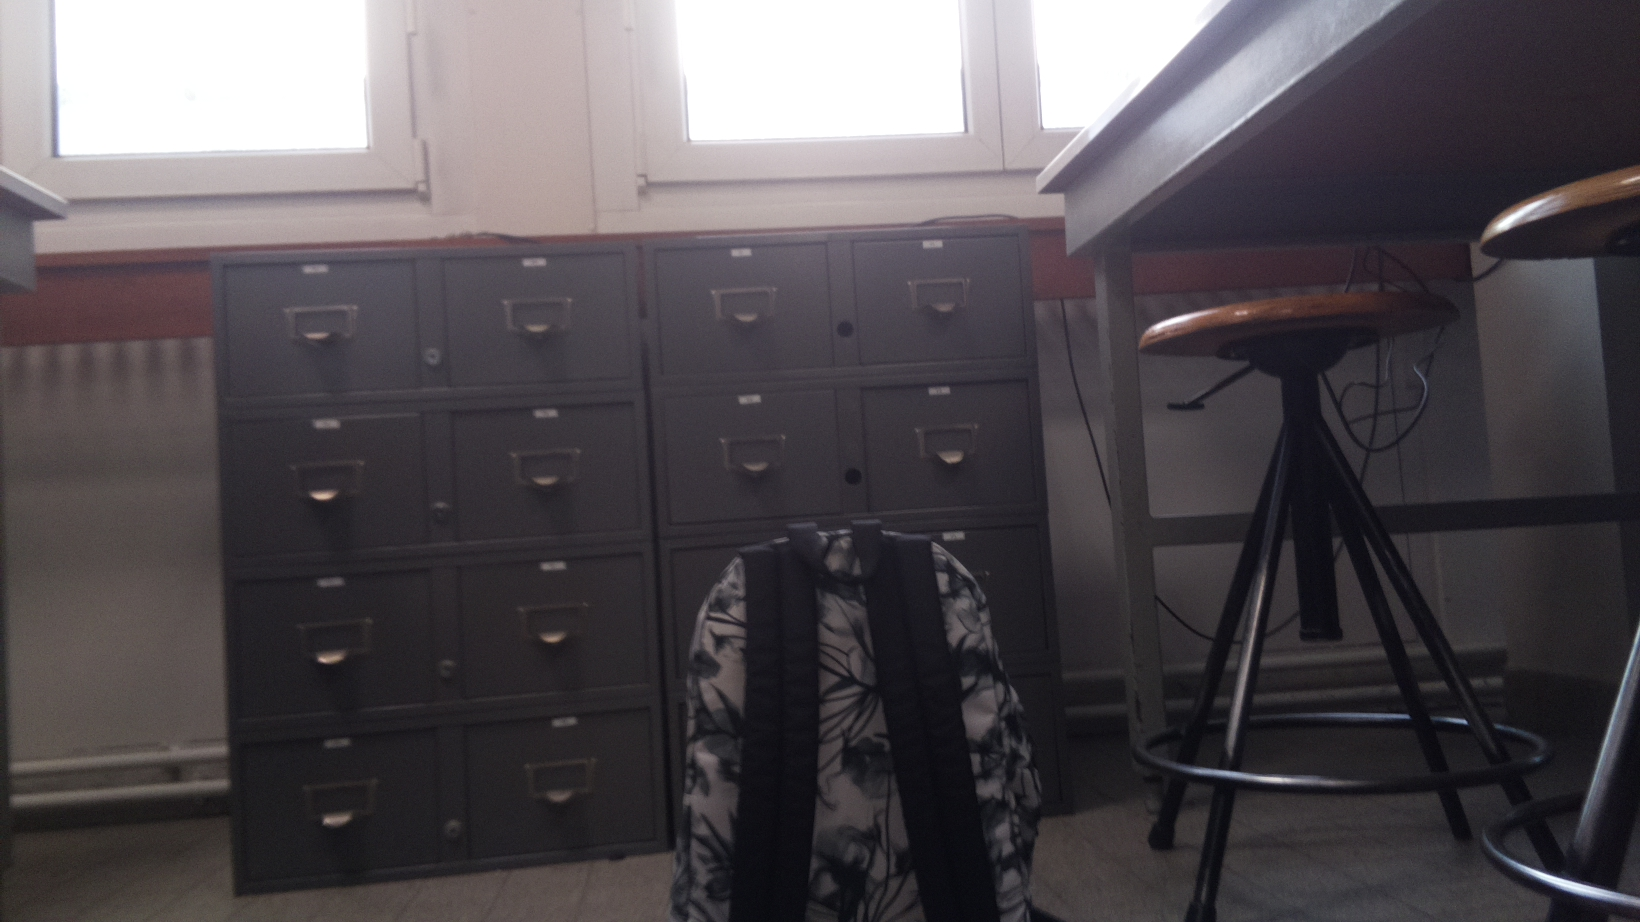big: (666, 523, 1048, 922)
